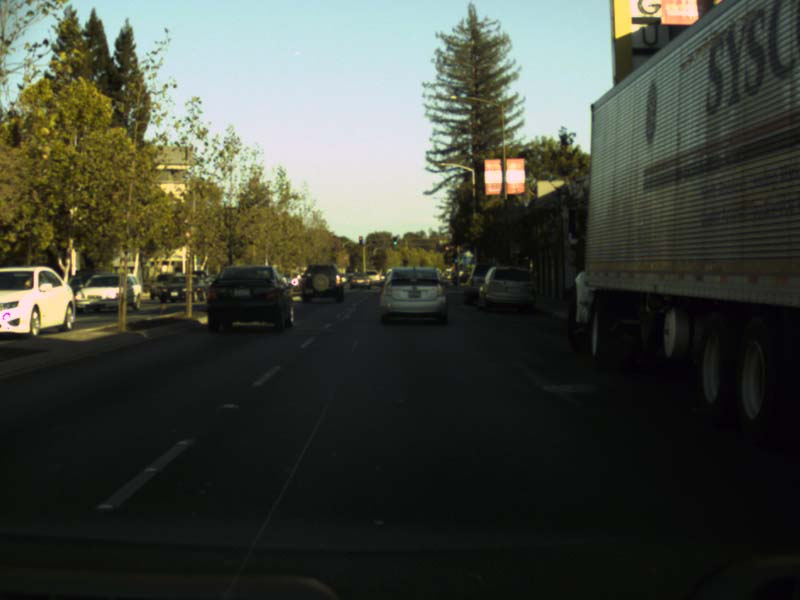Green: (392, 237, 396, 247)
Red: (358, 236, 361, 245)
